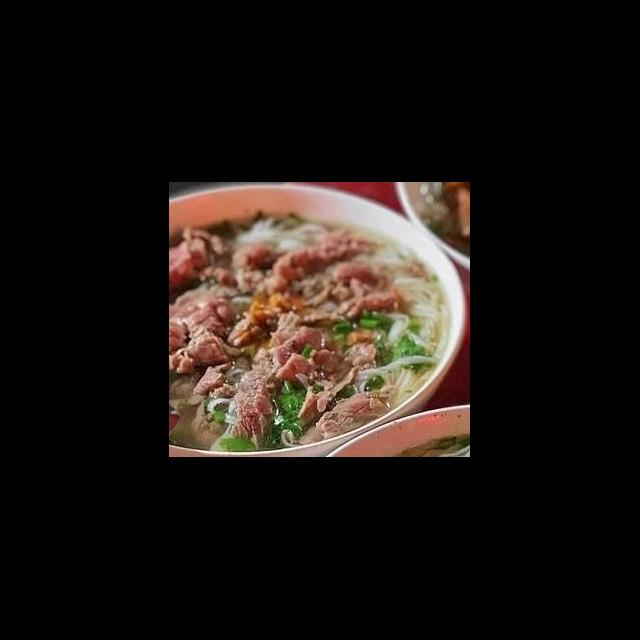banh pho: (388, 247, 470, 397)
pho bo: (170, 209, 453, 430)
thit bo: (220, 310, 324, 444), (274, 336, 380, 422), (170, 278, 240, 398), (314, 384, 398, 444)
